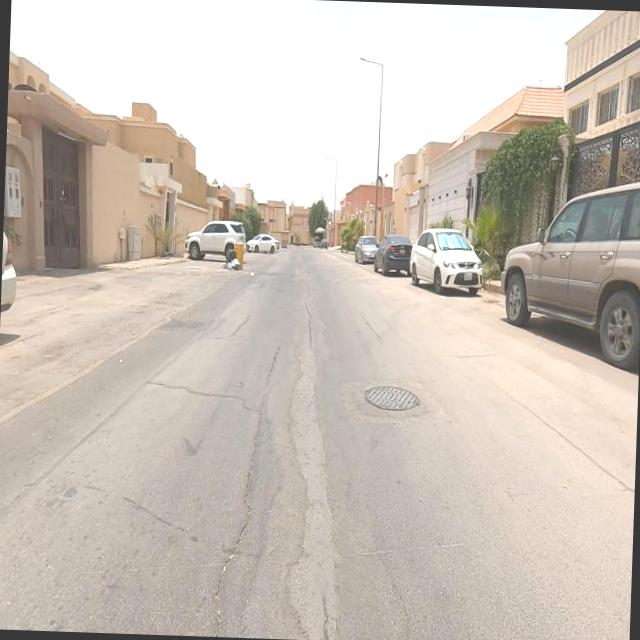debris: (206, 232, 258, 310), (236, 248, 272, 305)
